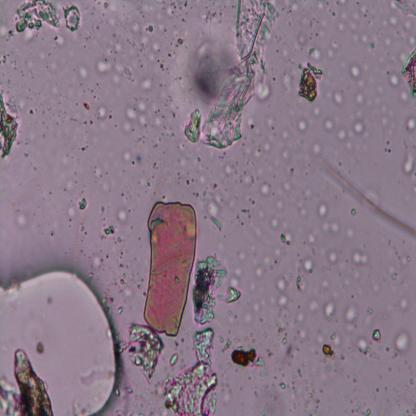Air bubble: (0, 261, 118, 416)
Background material: (184, 1, 278, 146), (320, 159, 416, 238), (164, 327, 218, 415), (1, 349, 57, 414), (121, 324, 164, 384), (192, 255, 226, 324), (293, 364, 325, 412), (0, 82, 20, 158), (14, 1, 62, 32), (131, 18, 161, 63), (296, 57, 320, 103), (21, 312, 45, 357), (245, 292, 278, 323), (121, 99, 150, 132), (230, 344, 265, 369), (97, 57, 126, 84), (401, 47, 416, 97), (318, 203, 341, 234), (277, 342, 299, 374), (76, 244, 102, 271), (230, 245, 247, 286), (191, 181, 220, 205), (240, 143, 274, 163), (262, 243, 283, 273), (62, 3, 82, 34), (120, 271, 145, 295), (103, 30, 124, 58), (208, 200, 226, 231), (275, 310, 291, 344), (275, 275, 291, 309), (203, 2, 223, 28), (391, 0, 416, 20), (59, 171, 81, 193), (345, 303, 359, 333), (224, 282, 242, 305), (296, 259, 307, 296), (295, 193, 311, 218), (239, 168, 260, 187), (97, 221, 116, 242), (394, 330, 412, 352), (402, 150, 416, 178), (384, 237, 401, 259), (220, 162, 240, 180), (217, 332, 231, 357), (152, 105, 167, 128), (14, 209, 32, 228), (304, 223, 319, 245), (234, 208, 252, 226), (159, 127, 178, 144), (290, 328, 310, 344), (132, 0, 148, 20), (350, 400, 370, 416), (367, 275, 381, 297), (22, 29, 40, 46), (356, 336, 372, 355), (321, 342, 337, 361), (101, 290, 114, 313), (352, 249, 369, 266), (327, 329, 343, 347), (164, 0, 180, 18), (65, 203, 78, 225), (352, 117, 366, 137), (386, 265, 402, 282), (50, 32, 65, 50), (348, 63, 362, 82), (315, 278, 331, 294), (326, 248, 340, 266), (258, 180, 272, 198), (311, 46, 325, 64), (338, 129, 351, 148), (92, 163, 108, 178), (323, 300, 337, 317), (306, 296, 319, 314), (78, 64, 91, 82), (96, 202, 107, 223), (77, 218, 88, 239), (281, 178, 293, 197), (116, 206, 128, 225), (332, 91, 346, 107), (282, 230, 295, 247), (97, 107, 110, 124), (340, 274, 351, 294), (404, 114, 416, 132), (294, 119, 309, 133), (83, 83, 102, 94), (280, 148, 292, 165), (123, 148, 134, 166), (117, 188, 131, 202), (304, 258, 316, 274), (347, 366, 359, 382), (162, 91, 173, 108), (347, 338, 358, 355), (253, 265, 265, 280), (324, 117, 335, 133), (142, 75, 153, 91), (245, 328, 256, 344), (399, 298, 410, 314), (246, 192, 257, 208), (273, 199, 285, 213), (111, 235, 125, 247), (365, 307, 376, 322), (248, 279, 259, 294), (25, 61, 36, 76), (405, 400, 416, 415), (173, 169, 182, 187), (270, 217, 280, 233), (134, 135, 146, 148), (56, 108, 68, 121), (372, 327, 382, 342), (255, 366, 270, 376), (312, 144, 322, 159), (158, 59, 169, 72), (390, 73, 400, 87), (296, 310, 306, 324), (0, 54, 10, 68), (196, 172, 206, 185), (174, 35, 184, 48), (82, 99, 92, 112), (90, 0, 98, 16), (260, 329, 268, 345), (126, 69, 134, 85), (42, 59, 52, 71), (225, 310, 237, 320), (52, 87, 61, 100), (230, 336, 244, 344), (6, 29, 14, 43), (403, 253, 411, 267), (347, 226, 355, 240), (101, 251, 109, 265), (330, 288, 340, 299), (258, 380, 268, 390), (319, 264, 330, 273), (79, 144, 91, 152), (79, 198, 87, 210), (152, 161, 159, 174), (84, 31, 93, 41), (286, 166, 295, 176), (136, 154, 145, 164), (173, 74, 184, 82), (244, 158, 255, 166), (385, 341, 393, 352), (178, 141, 186, 152), (371, 352, 382, 360), (29, 106, 36, 118), (307, 245, 316, 254), (179, 156, 187, 166), (389, 350, 397, 360), (121, 262, 131, 270), (11, 57, 17, 70), (118, 250, 124, 262), (156, 80, 165, 88), (350, 206, 356, 218), (260, 209, 267, 219), (218, 154, 226, 162), (184, 178, 191, 187), (280, 381, 287, 390), (40, 107, 49, 114), (146, 177, 152, 187), (252, 388, 259, 396), (180, 16, 187, 24), (108, 108, 113, 119), (89, 272, 98, 278), (55, 118, 61, 127), (172, 110, 178, 119), (91, 94, 100, 100), (26, 96, 33, 103), (54, 100, 62, 106), (24, 137, 30, 145), (70, 116, 78, 122), (174, 104, 182, 110), (20, 68, 25, 77), (116, 309, 121, 318), (340, 355, 347, 361), (35, 90, 42, 96), (161, 28, 168, 34), (104, 1, 109, 9), (408, 376, 413, 384), (392, 384, 397, 392), (47, 188, 52, 196), (396, 399, 402, 405), (81, 120, 87, 126), (183, 1, 189, 7), (89, 119, 95, 125), (23, 152, 28, 159), (272, 372, 277, 379), (100, 10, 105, 17), (94, 25, 101, 30), (129, 223, 133, 231), (151, 190, 157, 195), (81, 43, 87, 48), (97, 1, 103, 6), (50, 231, 55, 237), (304, 171, 310, 176), (41, 132, 46, 138), (44, 124, 50, 129), (306, 162, 312, 167), (261, 409, 265, 416), (384, 385, 388, 392), (168, 52, 172, 58), (162, 194, 166, 200), (397, 391, 401, 397), (150, 174, 154, 180), (170, 42, 173, 49), (376, 388, 380, 393), (197, 159, 202, 163), (388, 367, 392, 372), (115, 124, 118, 130), (192, 179, 196, 183), (75, 102, 79, 106), (223, 234, 226, 239), (153, 145, 157, 148), (34, 165, 36, 171), (138, 238, 141, 241)
Fragment: (142, 201, 198, 339)
